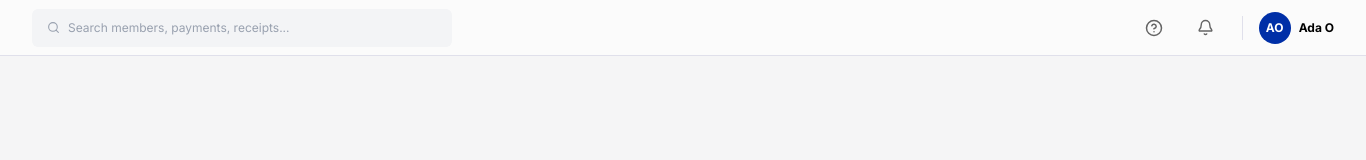
it: Topbar search panel — derived visibility › opens once the search has come back
Type "ad" into the field with placeholder "Search members, payments, receipts..." at (252, 28), box x1=68 y1=20 x2=437 y2=36
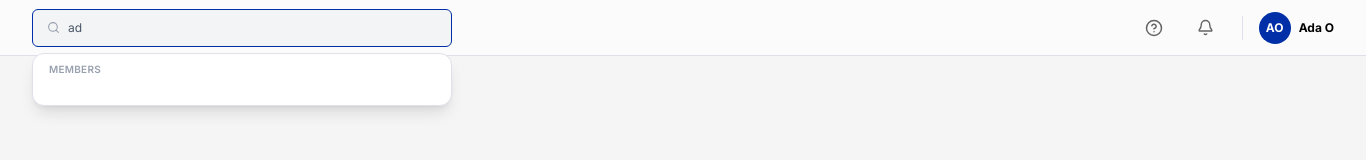
Expected: the text "Members" is shown, x1=49 y1=62 x2=101 y2=74
